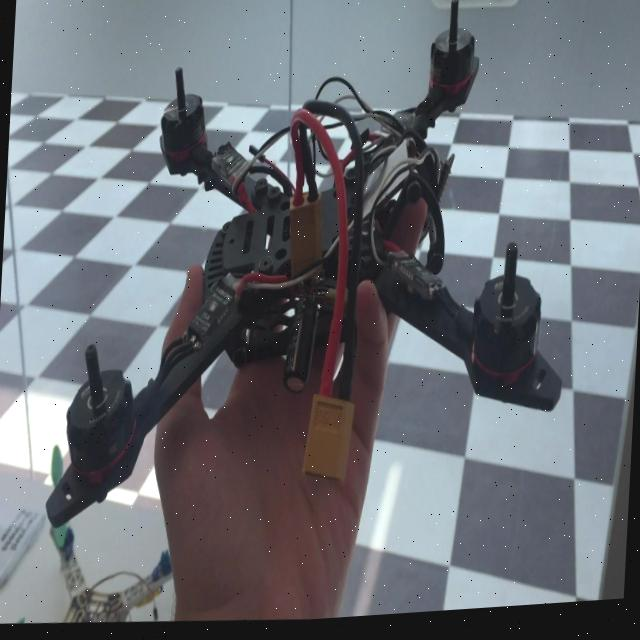drone: (37, 0, 597, 569)
